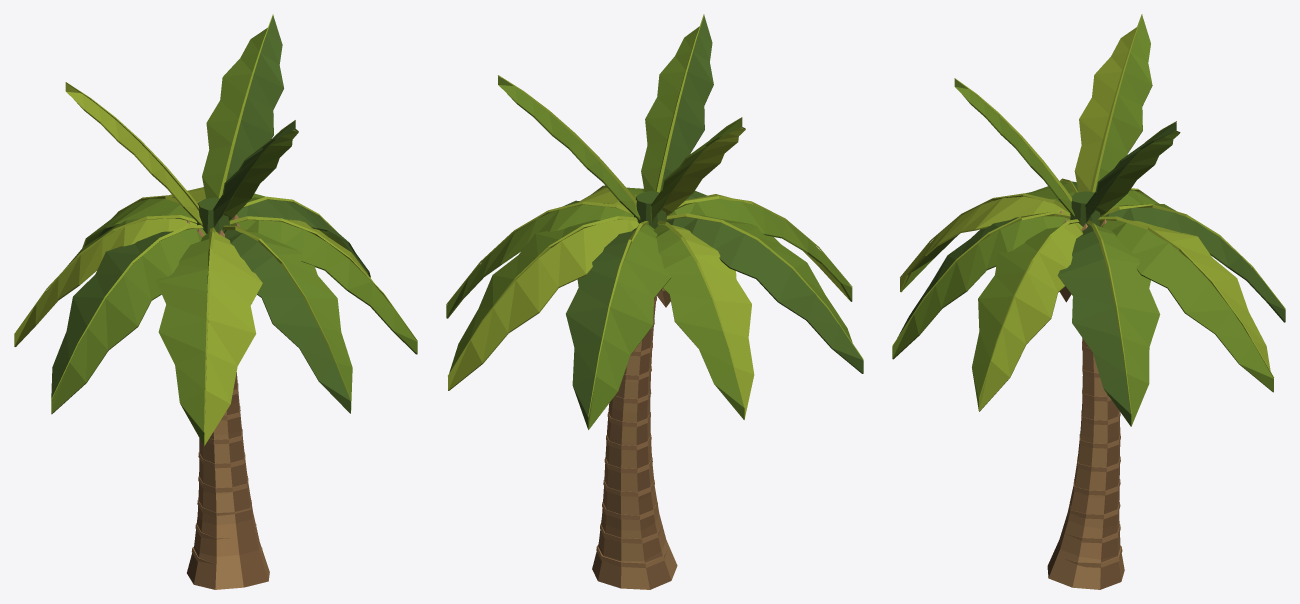
File: palm_c.glb
3 views of the same model, side by side, from view 1: azimuth 30°, elevation 25°; view 2: azimuth 150°, elevation 25°; view 3: azimuth 270°, elevation 25° (orthographic). The views are drawn at different scales.
Visible parts, largest first — view 1: body; view 2: body; view 3: body.
Boxes of the visible parts, x1,y1,x2,y2 form: body: [14, 14, 417, 589]; body: [446, 14, 863, 589]; body: [892, 14, 1285, 589].
Bounding box in the file's own units: 3.32 × 4.37 × 3.16.
